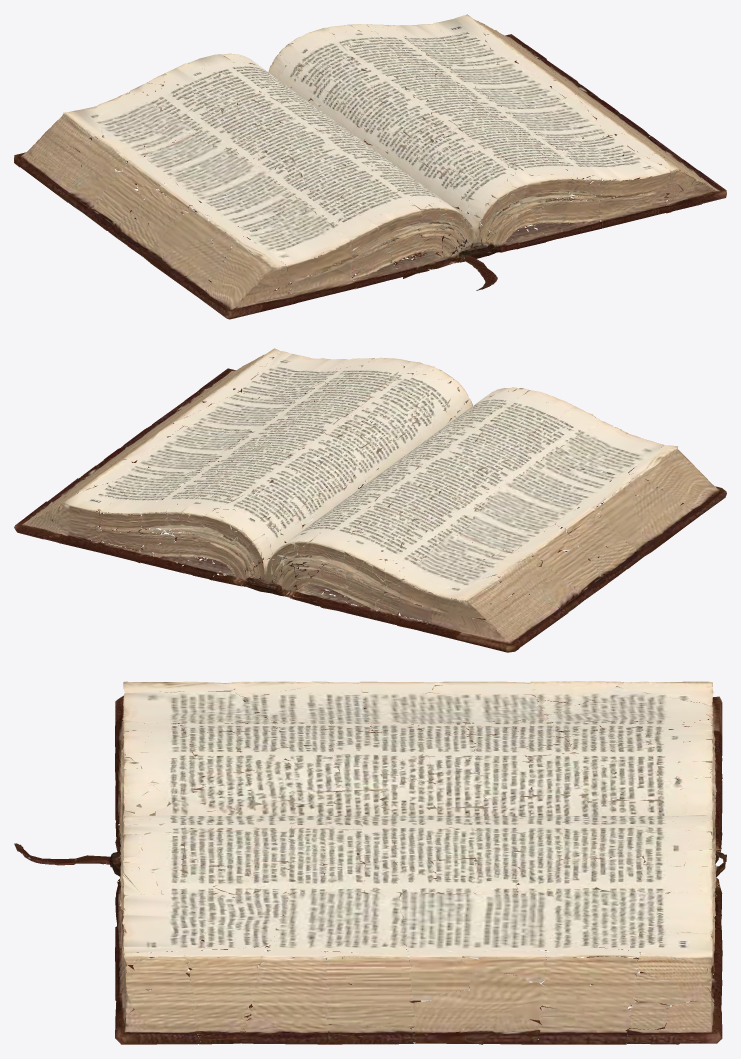
Rendered from openbook.glb.
3 views of the same model, one above another, from view 1: azimuth 30°, elevation 25°; view 2: azimuth 150°, elevation 25°; view 3: azimuth 270°, elevation 25° (orthographic). The views are drawn at different scales.
Parts seen in each view (by area): view 1: Mesh_0; view 2: Mesh_0; view 3: Mesh_0.
Part boxes in pixels (x1,y1,x2,y2): Mesh_0: (14,14,726,319); Mesh_0: (14,348,726,652); Mesh_0: (14,681,726,1044).
Size of the model in its own units: 0.6404 by 0.0773 by 0.5628.
1 material, 1 textured.
